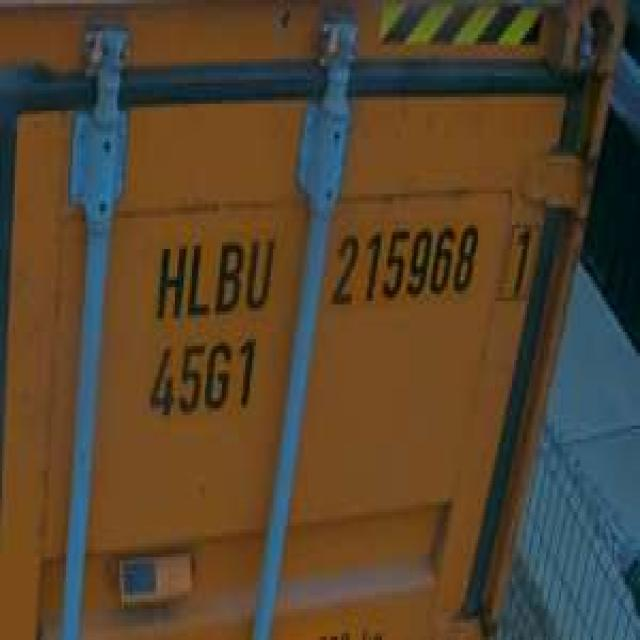dv: (501, 204, 542, 308)
owner: (152, 225, 278, 318)
serial: (329, 211, 480, 311)
size: (143, 328, 258, 418)
